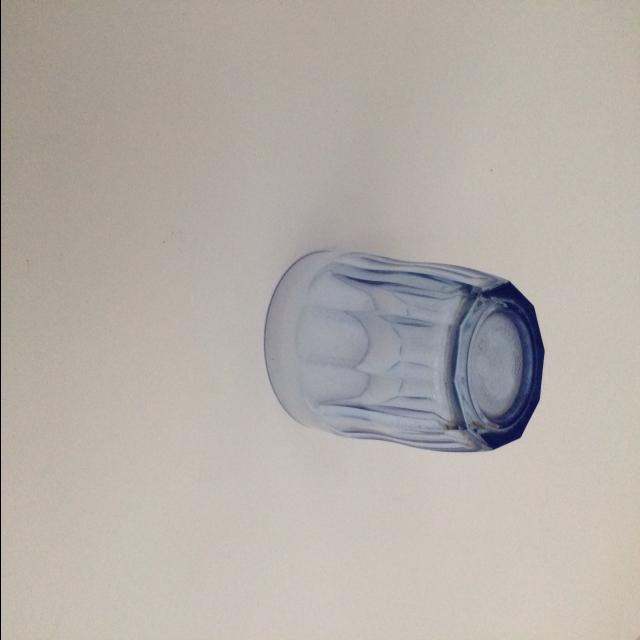glass: (260, 250, 544, 450)
